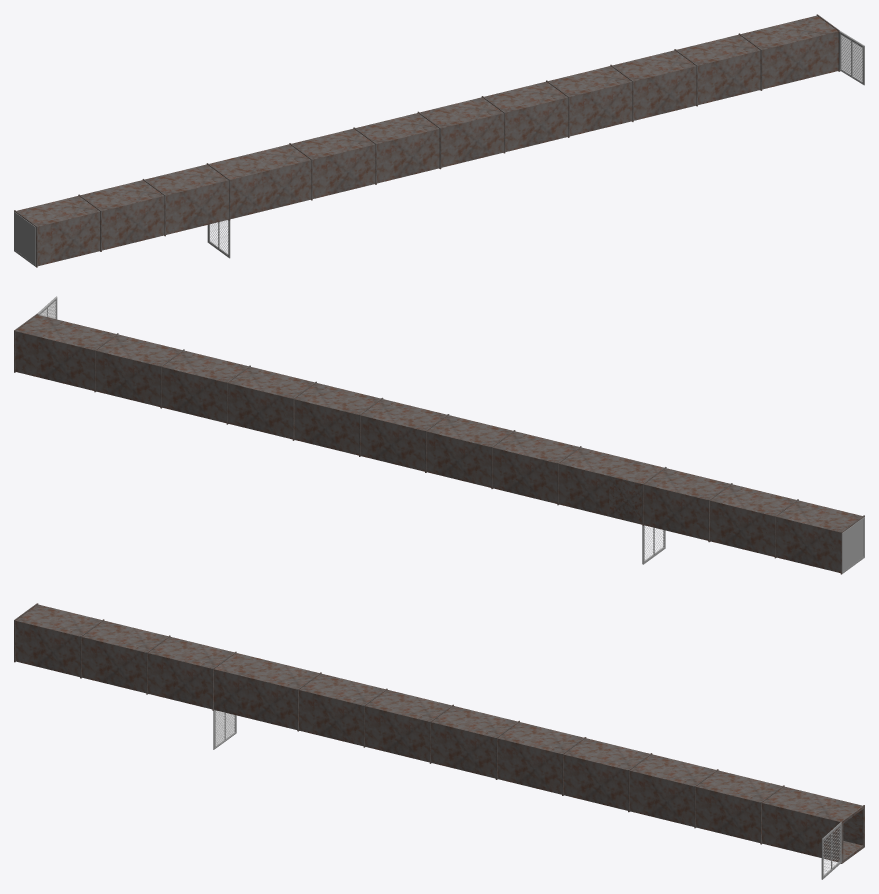
The model's file is SM_DropDownVent.fbx.
The picture shows the model from 3 angles, top to bottom: view 1: azimuth 30°, elevation 25°; view 2: azimuth 150°, elevation 25°; view 3: azimuth 330°, elevation 25°; orthographic projection. The views are drawn at different scales.
Parts seen in each view (by area): view 1: SM_LongVent_01a2, SM_LongVent_01a9, SM_LongVent_01a7, SM_LongVent_01a5, SM_LongVent_01a3, SM_LongVent_01a8, SM_LongVent_01a11, SM_LongVent_01a4; view 2: SM_LongVent_01a2, SM_LongVent_01a9, SM_LongVent_01a5, SM_LongVent_01a7, SM_LongVent_01a8, SM_LongVent_01a11, SM_LongVent_01a3; view 3: SM_LongVent_01a2, SM_LongVent_01a9, SM_LongVent_01a7, SM_LongVent_01a3, SM_LongVent_01a8, SM_LongVent_01a5, SM_LongVent_01a11, SM_LongVent_01a4.
Boxes of the visible parts, x1,y1,x2,y2 form: SM_LongVent_01a2: (14, 111, 441, 267); SM_LongVent_01a9: (741, 14, 840, 89); SM_LongVent_01a7: (612, 49, 697, 120); SM_LongVent_01a5: (484, 80, 569, 151); SM_LongVent_01a3: (420, 96, 505, 167); SM_LongVent_01a8: (677, 33, 762, 104); SM_LongVent_01a11: (548, 64, 633, 135); SM_LongVent_01a4: (839, 31, 864, 85); SM_LongVent_01a2: (425, 414, 864, 574); SM_LongVent_01a9: (14, 313, 115, 390); SM_LongVent_01a5: (292, 381, 380, 455); SM_LongVent_01a7: (160, 349, 248, 423); SM_LongVent_01a8: (94, 333, 181, 406); SM_LongVent_01a11: (226, 365, 314, 439); SM_LongVent_01a3: (359, 397, 446, 471); SM_LongVent_01a2: (14, 603, 453, 763); SM_LongVent_01a9: (762, 786, 864, 863); SM_LongVent_01a7: (629, 754, 718, 828); SM_LongVent_01a3: (431, 706, 519, 779); SM_LongVent_01a8: (695, 770, 784, 844); SM_LongVent_01a5: (497, 722, 586, 795); SM_LongVent_01a11: (563, 738, 652, 812); SM_LongVent_01a4: (821, 822, 841, 879).
Bounding box in the file's own units: 2783 × 260 × 264.
